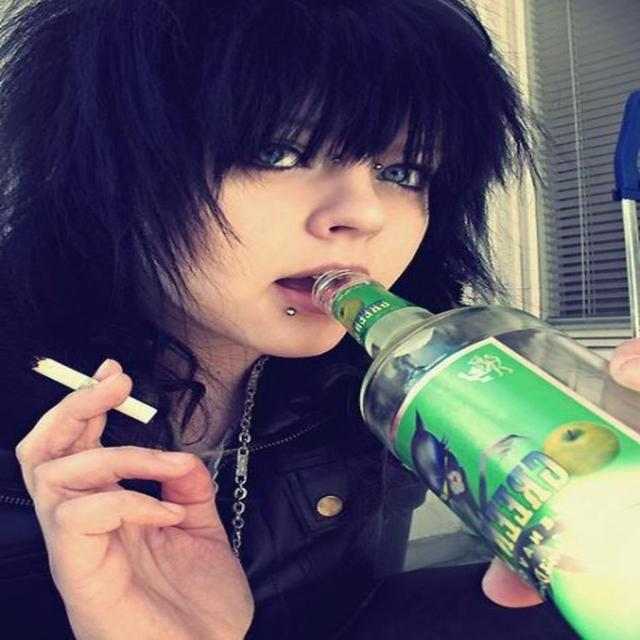smoking: (8, 0, 502, 517)
